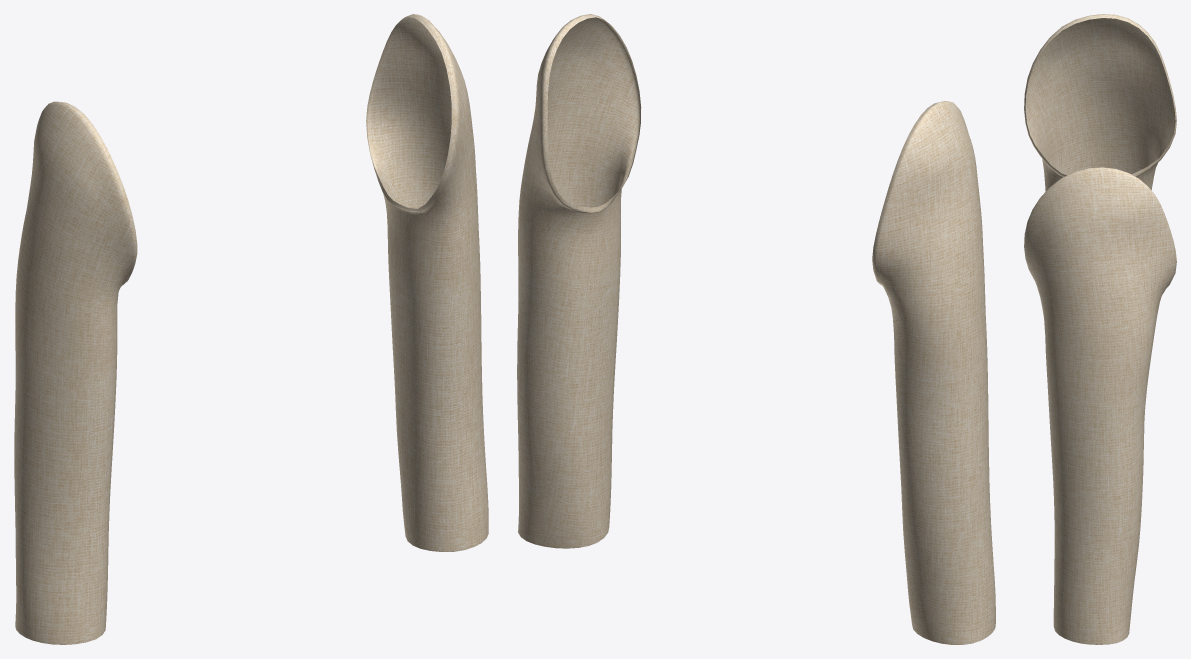
The model's file is Structured.glb.
3 views of the same model, side by side, from view 1: azimuth 30°, elevation 25°; view 2: azimuth 150°, elevation 25°; view 3: azimuth 270°, elevation 25° (orthographic). The views are drawn at different scales.
Visible parts, largest first — view 1: Structured.001; view 2: Structured.001; view 3: Structured.001.
Part boxes in pixels (<box>): Structured.001: <box>14,14,488,644</box>; Structured.001: <box>517,14,995,644</box>; Structured.001: <box>1024,14,1176,644</box>.
Bounding box in the file's own units: 0.0771 × 0.0825 × 0.0251.
Materials: 1 (1 with a texture image).
